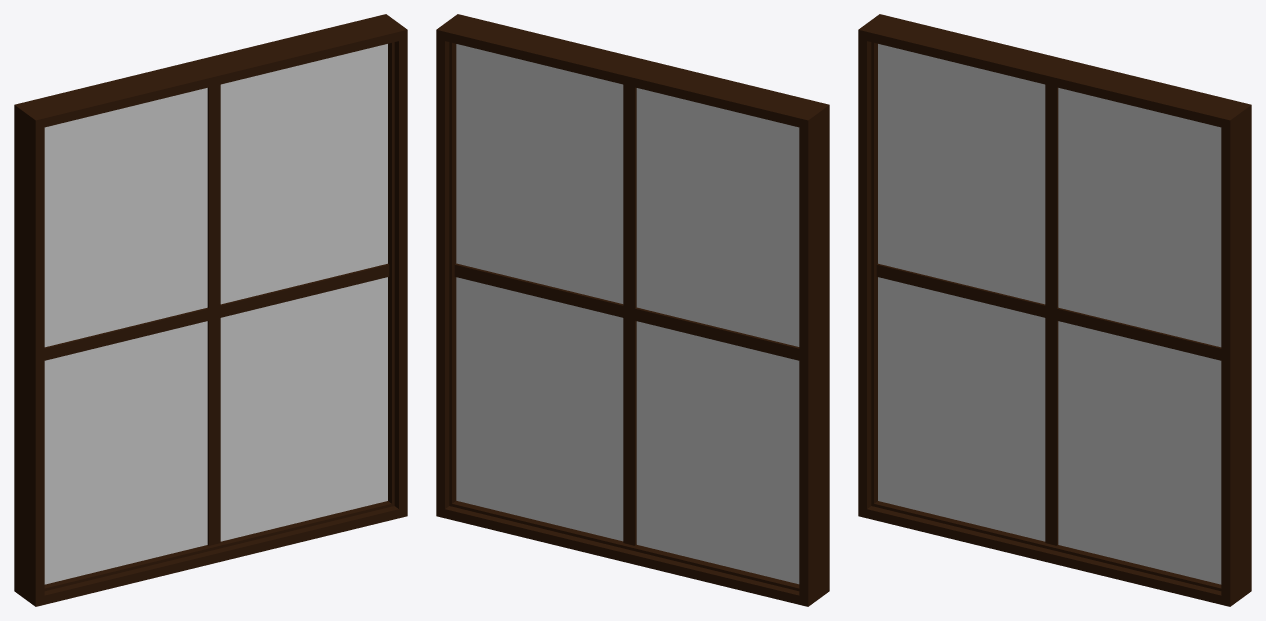
The model's file is Window_Modular.fbx.
The picture shows the model from 3 angles, left to right: view 1: azimuth 30°, elevation 25°; view 2: azimuth 150°, elevation 25°; view 3: azimuth 330°, elevation 25°; orthographic projection.
Parts seen in each view (by area): view 1: Glass, Frame, Vertical, Horizontal; view 2: Glass, Frame, Vertical, Horizontal; view 3: Glass, Frame, Vertical, Horizontal.
Boxes of the visible parts, box(x1,y1,x2,y2) form: Glass: box(44, 44, 387, 584); Frame: box(14, 14, 407, 606); Vertical: box(207, 84, 220, 545); Horizontal: box(44, 263, 389, 360); Glass: box(456, 44, 799, 584); Frame: box(436, 14, 829, 606); Vertical: box(623, 84, 636, 545); Horizontal: box(454, 263, 799, 360); Glass: box(878, 44, 1221, 584); Frame: box(858, 14, 1251, 606); Vertical: box(1045, 84, 1058, 545); Horizontal: box(876, 263, 1221, 360).
Size of the model in its own units: 100 by 125 by 10.
